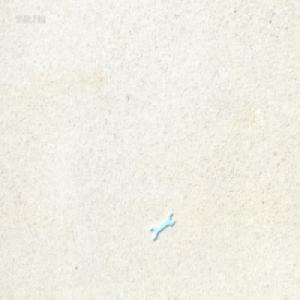Wrench: (149, 214, 174, 242)
